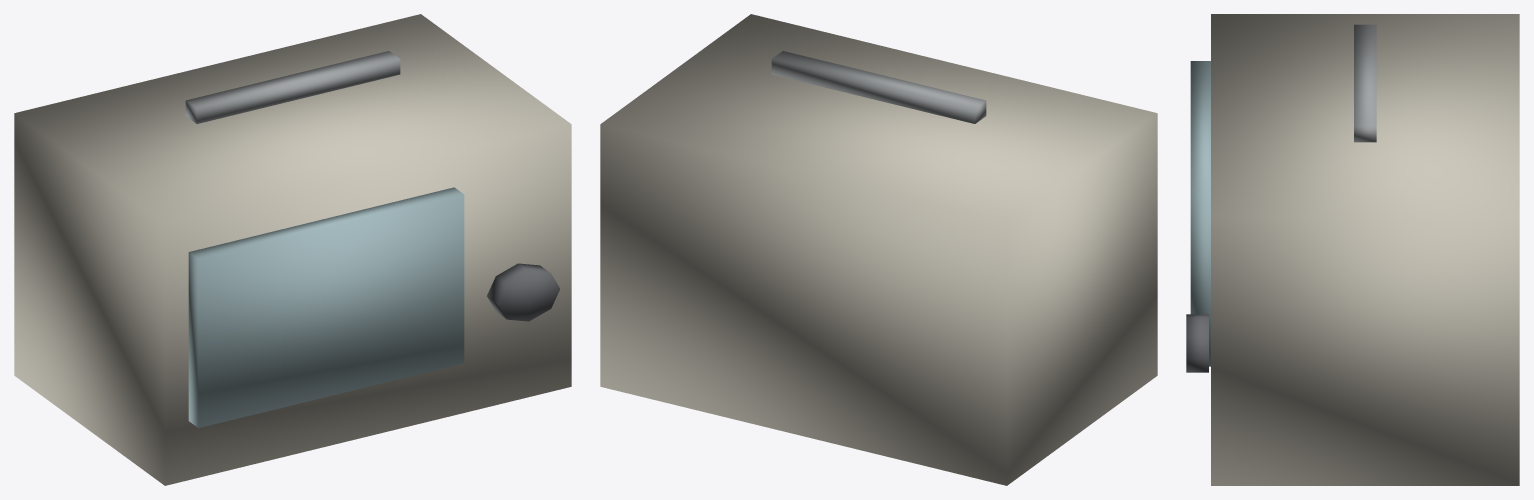
File: portable_television__squat.glb
The picture shows the model from 3 angles, left to right: view 1: azimuth 30°, elevation 25°; view 2: azimuth 150°, elevation 25°; view 3: azimuth 270°, elevation 25°; orthographic projection. The views are drawn at different scales.
Parts seen in each view (by area): view 1: world; view 2: world; view 3: world.
Boxes of the visible parts, x1,y1,x2,y2 form: world: [14, 14, 571, 485]; world: [600, 14, 1157, 485]; world: [1186, 14, 1519, 485].
Bounding box in the file's own units: 0.572 × 0.4053 × 0.3969.
